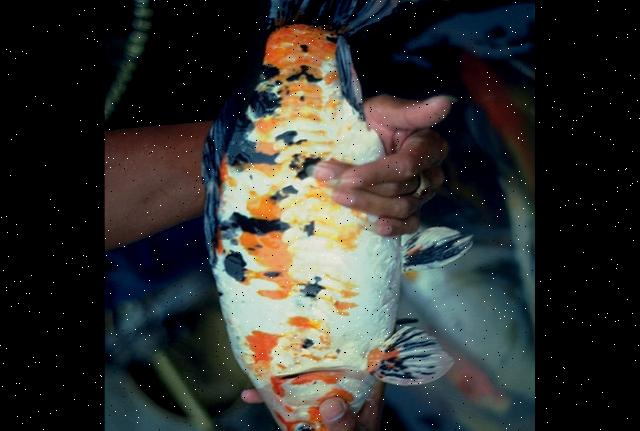Sirip Anal: (326, 32, 379, 121)
Sirip Dada: (358, 318, 464, 390)
Sirip Ekor: (252, 0, 409, 37)
Sirip Perut: (391, 216, 484, 276)
Sirip Punggung: (192, 63, 266, 266)
